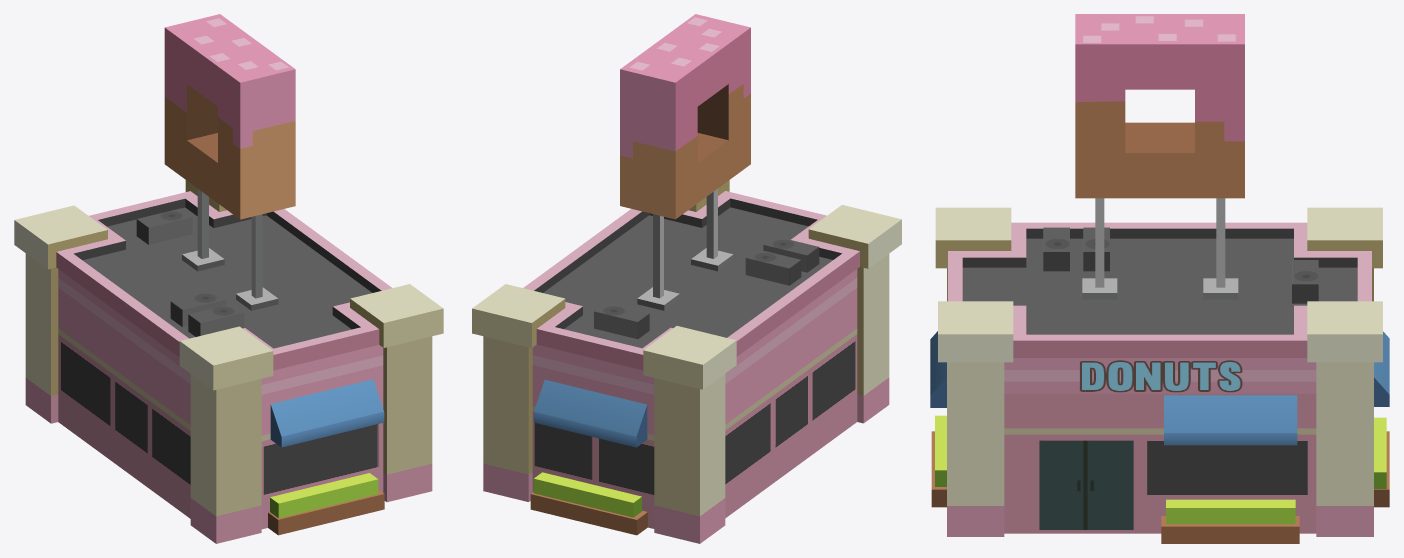
Rendered from donut_shop_mesh.fbx.
3 renders of one model, left to right at view 1: azimuth 30°, elevation 25°; view 2: azimuth 150°, elevation 25°; view 3: azimuth 270°, elevation 25°, orthographic. The views are drawn at different scales.
Parts seen in each view (by area): view 1: donut_shop_mesh; view 2: donut_shop_mesh; view 3: donut_shop_mesh.
Part boxes in pixels (left/top/right/bottom): donut_shop_mesh: left=14, top=14, right=443, bottom=543; donut_shop_mesh: left=472, top=14, right=901, bottom=543; donut_shop_mesh: left=930, top=14, right=1389, bottom=543.
Bounding box in the file's own units: 12.22 × 19.72 × 18.29.
Materials: 1 (1 with a texture image).
